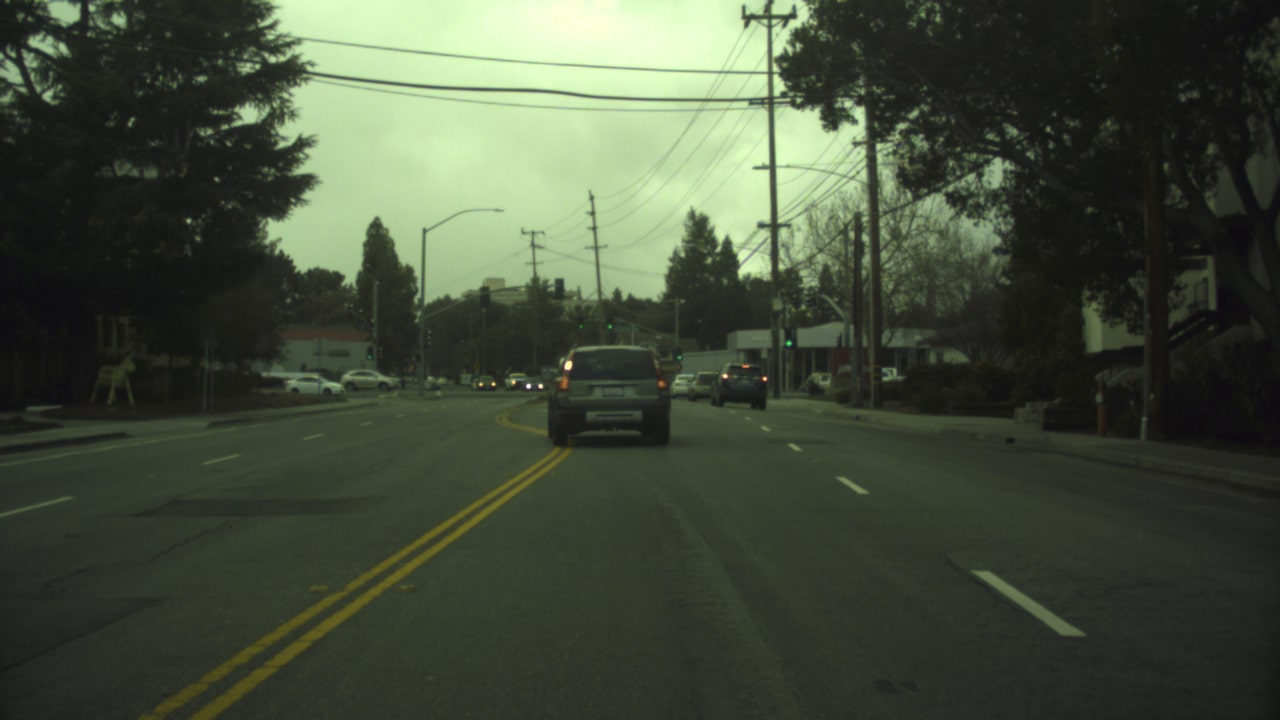signal: (781, 332, 795, 355), (601, 318, 613, 331)
